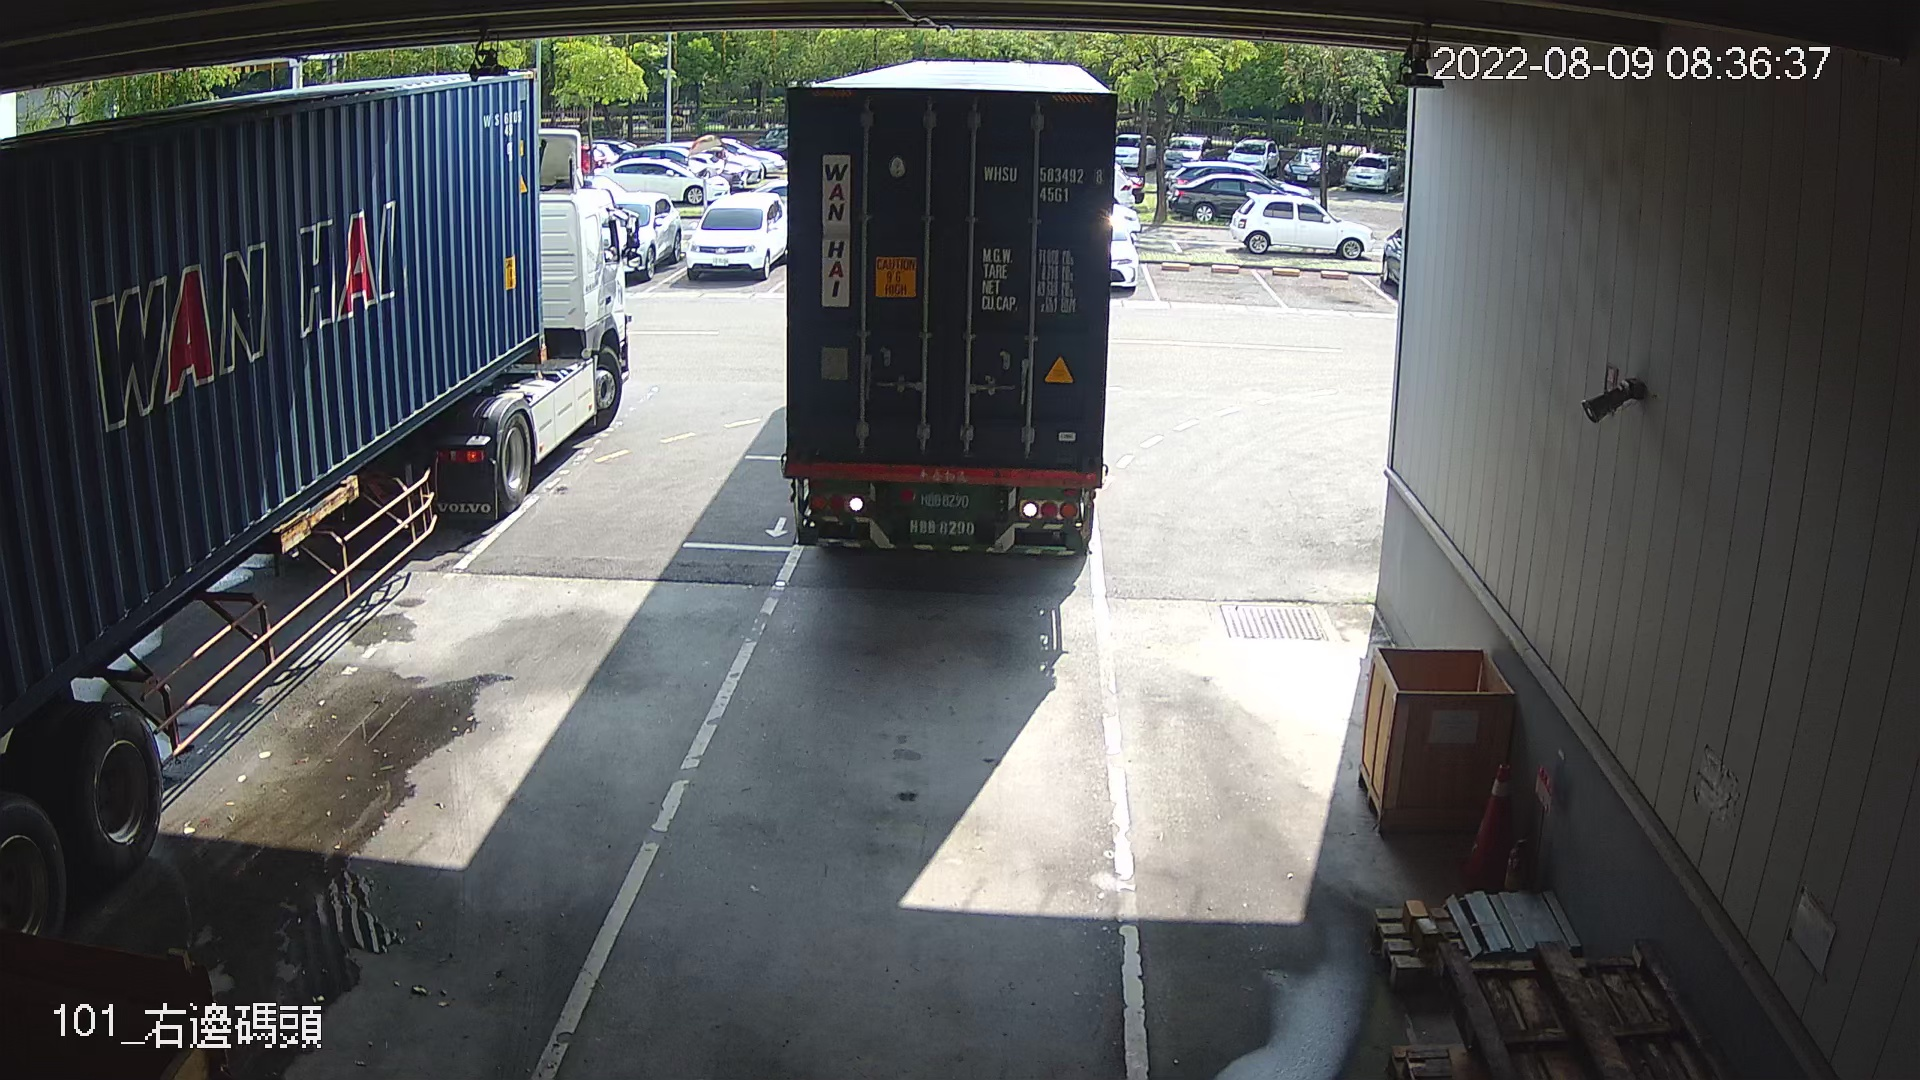container: (975, 154, 1110, 211)
